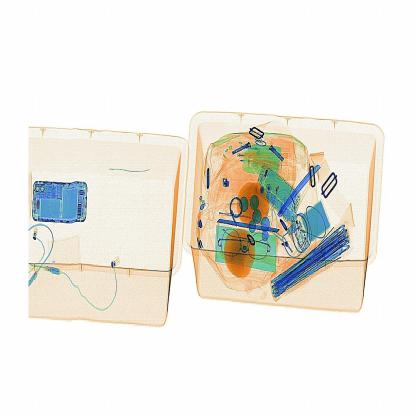pliers: (274, 154, 332, 222)
